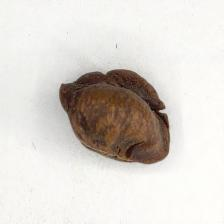NG: (60, 68, 169, 164)
